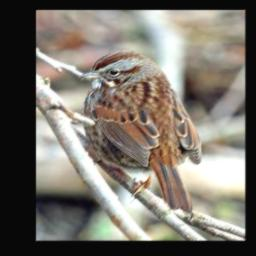Sparrow: (78, 50, 204, 213)
